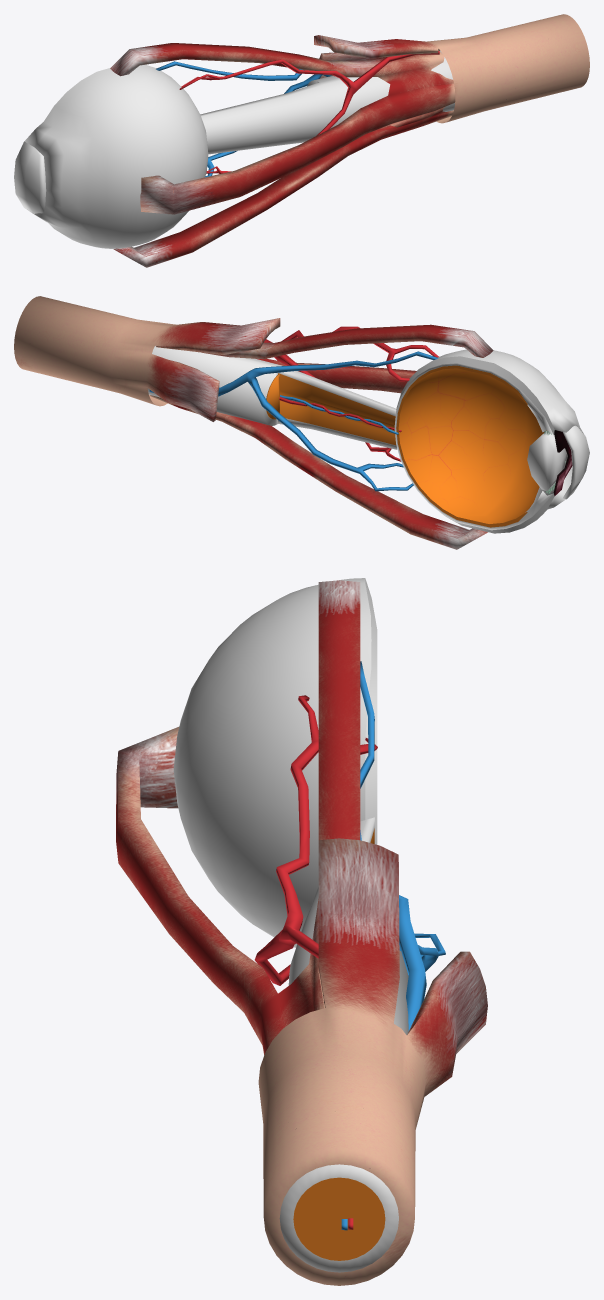
File: eye_part.fbx
The picture shows the model from 3 angles, top to bottom: view 1: azimuth 30°, elevation 25°; view 2: azimuth 150°, elevation 25°; view 3: azimuth 270°, elevation 25°; orthographic projection. The views are drawn at different scales.
Parts seen in each view (by area): view 1: Cylinder; view 2: Cylinder; view 3: Cylinder.
Boxes of the visible parts, left/top/right/bottom form: Cylinder: left=14, top=14, right=589, bottom=267; Cylinder: left=14, top=296, right=589, bottom=549; Cylinder: left=116, top=578, right=487, bottom=1285.
Bounding box in the file's own units: 191 × 69.99 × 55.18.
Materials: 13 (3 with a texture image).
